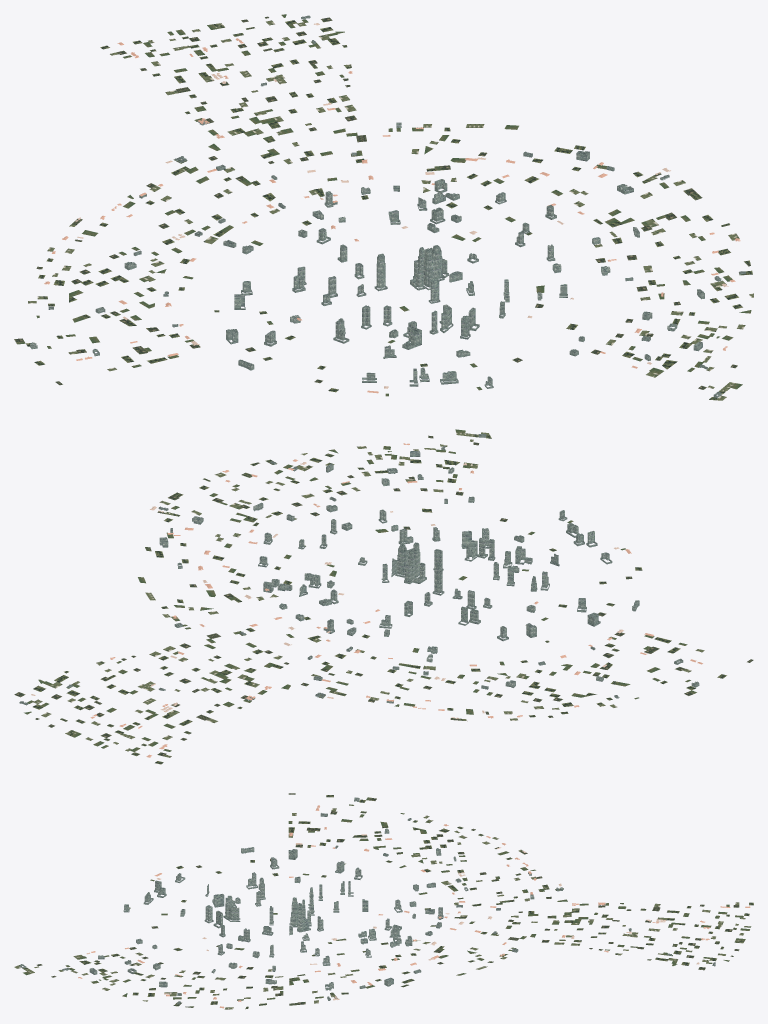
Rendered from city_3d_model_13.glb.
The picture shows the model from 3 angles, top to bottom: view 1: azimuth 30°, elevation 25°; view 2: azimuth 150°, elevation 25°; view 3: azimuth 270°, elevation 25°; orthographic projection. The views are drawn at different scales.
Visible parts, largest first — view 1: Object_168, Object_162, Object_172, Object_160, Object_166, Object_174; view 2: Object_168, Object_162, Object_172, Object_160, Object_166, Object_174; view 3: Object_168, Object_162, Object_172, Object_160, Object_166, Object_174.
Boxes of the visible parts, left/top/right/bottom form: Object_168: left=30, top=15, right=745, bottom=397; Object_162: left=26, top=20, right=752, bottom=400; Object_172: left=16, top=14, right=751, bottom=396; Object_160: left=28, top=20, right=753, bottom=400; Object_166: left=14, top=16, right=750, bottom=389; Object_174: left=44, top=38, right=740, bottom=393; Object_168: left=19, top=434, right=699, bottom=705; Object_162: left=33, top=434, right=726, bottom=764; Object_172: left=24, top=429, right=696, bottom=751; Object_160: left=33, top=432, right=704, bottom=757; Object_166: left=14, top=435, right=753, bottom=756; Object_174: left=90, top=443, right=702, bottom=728; Object_168: left=20, top=797, right=715, bottom=1004; Object_162: left=18, top=795, right=753, bottom=1009; Object_172: left=23, top=797, right=751, bottom=1000; Object_160: left=14, top=808, right=745, bottom=1009; Object_166: left=37, top=793, right=739, bottom=1007; Object_174: left=78, top=805, right=710, bottom=1008.
Size of the model in its own units: 748 by 48.06 by 995.
Materials: 8 (8 with a texture image).
